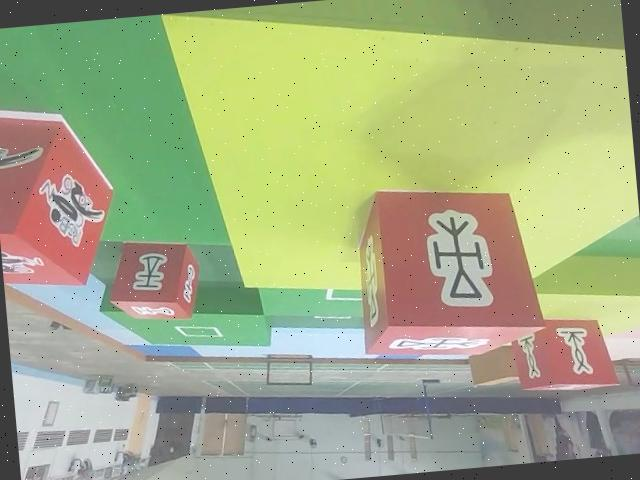R1: (0, 95, 124, 296)
R2 Real: (346, 173, 548, 367), (506, 308, 619, 402), (103, 233, 204, 327)
